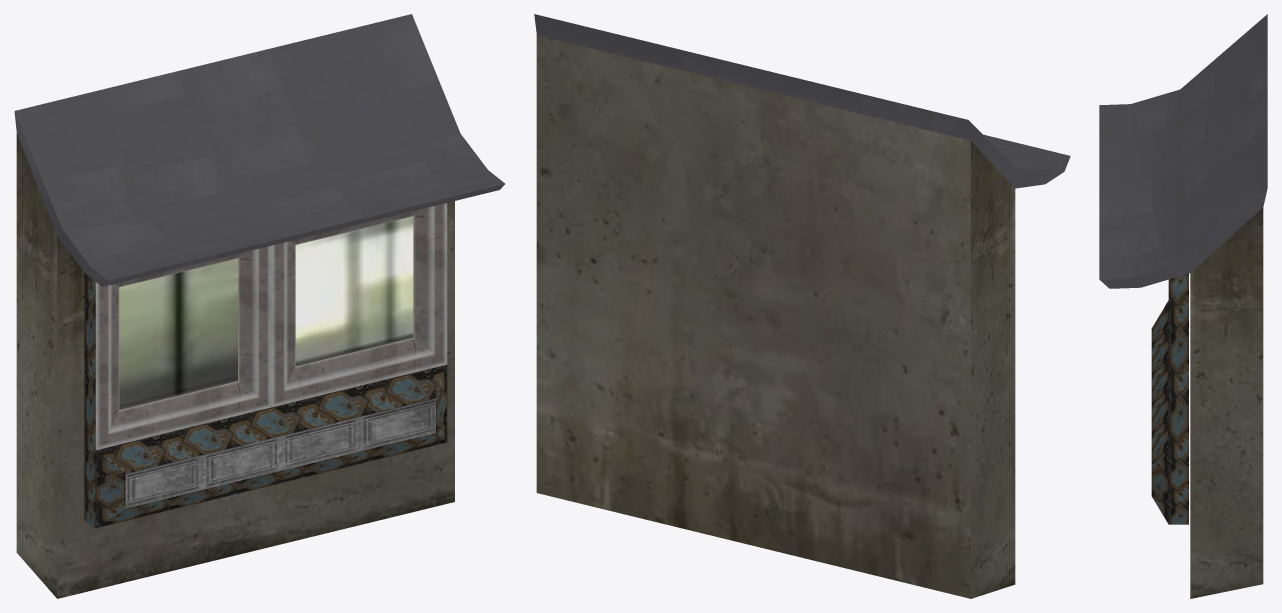
Rendered from wall-module-07.glb.
The picture shows the model from 3 angles, left to right: view 1: azimuth 30°, elevation 25°; view 2: azimuth 150°, elevation 25°; view 3: azimuth 270°, elevation 25°; orthographic projection. The views are drawn at different scales.
Visible parts, largest first — view 1: Wall_Module_07; view 2: Wall_Module_07; view 3: Wall_Module_07.
Part boxes in pixels (box(x1,y1,x2,y2)): Wall_Module_07: box(14, 14, 504, 598); Wall_Module_07: box(534, 14, 1070, 598); Wall_Module_07: box(1099, 14, 1267, 598).
Size of the model in its own units: 2.27 by 2.5 by 0.9269.
2 materials, 2 textured.
